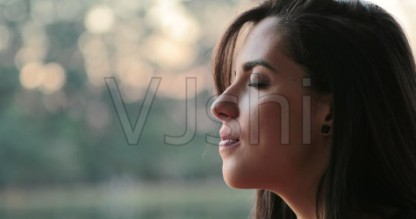闭眼: (243, 69, 276, 93)
